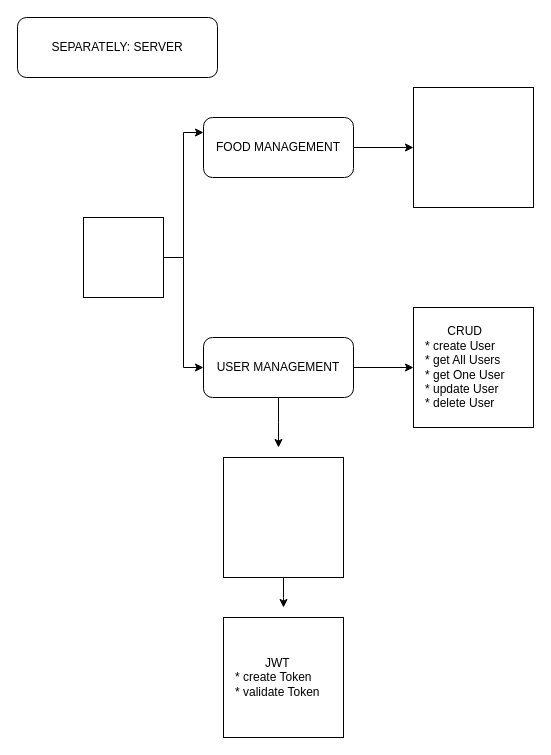
This 551x755 diagram has some shape labels left out. The shapes that lost their labels are listed below. From the top down, each one's centre as x and y in pixels, then its label:
point (473, 147): CRUD * create Food * get All Foods * get One Food * update Food * delete Food
point (123, 257): MYESSEN SERVER
point (283, 517): AUTH * login User * get currentUser * register User
